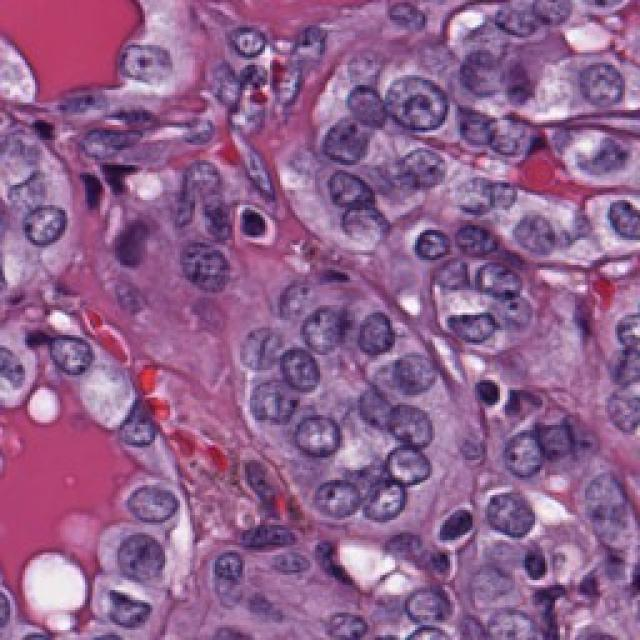abnormal: (465, 465, 553, 555), (267, 398, 370, 469), (552, 120, 640, 201), (378, 393, 468, 472), (499, 191, 583, 273), (380, 55, 456, 145), (101, 524, 201, 592), (562, 34, 638, 117), (577, 467, 640, 567), (307, 464, 377, 549), (380, 574, 493, 626), (14, 189, 92, 264), (175, 232, 245, 308), (352, 279, 413, 366), (360, 463, 426, 541), (330, 197, 395, 276), (572, 189, 640, 263), (445, 562, 548, 610), (495, 420, 560, 496), (168, 240, 237, 311), (45, 312, 110, 387), (122, 462, 194, 526), (303, 297, 368, 367), (387, 132, 454, 195), (312, 151, 378, 213), (274, 341, 339, 402), (403, 212, 447, 272)
